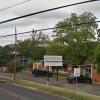Tree: (34, 7, 100, 63)
